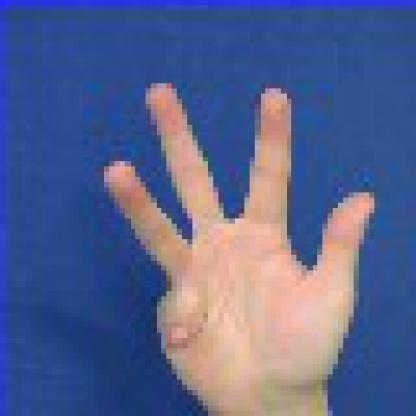nine: (41, 36, 410, 411)
